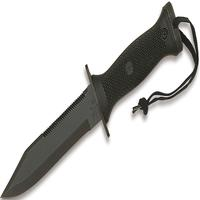knife: (1, 7, 186, 198)
